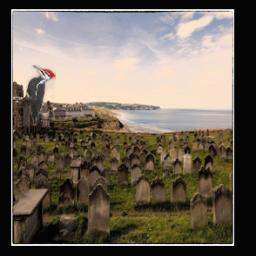Woodpecker: (26, 65, 56, 126)
